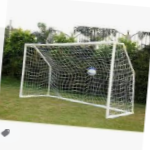goals: (17, 36, 135, 118)
